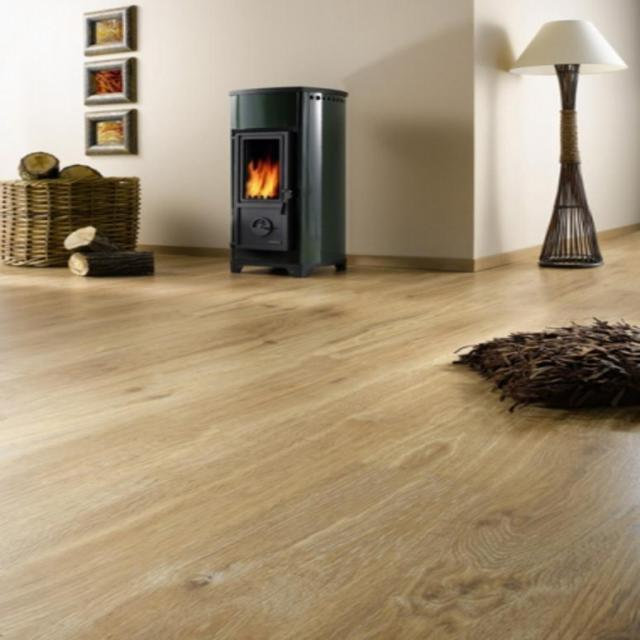Fire: (229, 126, 289, 208)
